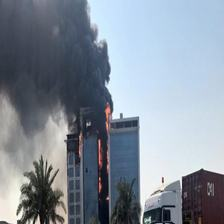fire: (1, 1, 123, 123), (97, 109, 113, 222)
